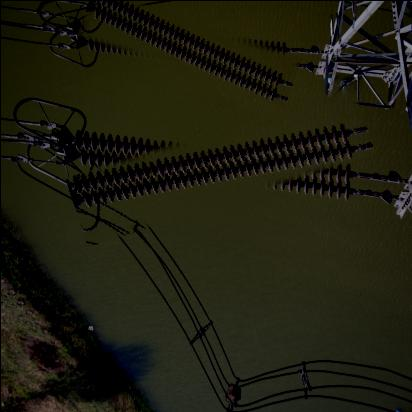insulator: (67, 108, 374, 226), (78, 4, 300, 91)
